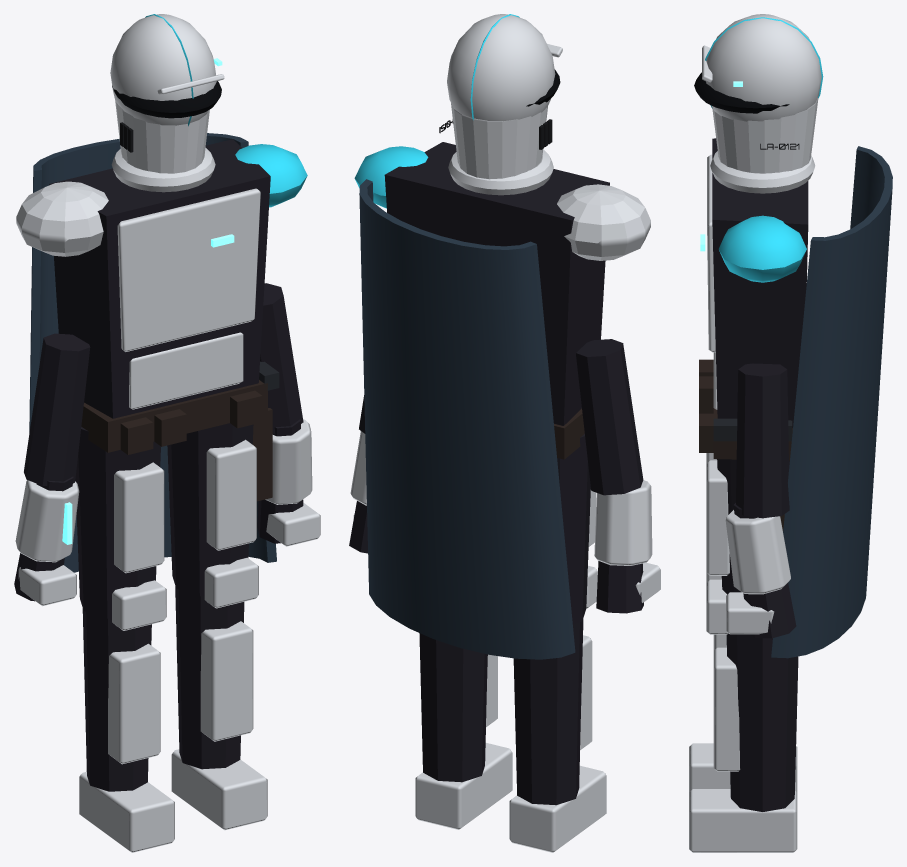
File: pilot_figure_issued.glb
3 views of the same model, side by side, from view 1: azimuth 30°, elevation 25°; view 2: azimuth 150°, elevation 25°; view 3: azimuth 270°, elevation 25° (orthographic).
Visible parts, largest first — view 1: pilot_armor, pilot_body, pilot_belt, pilot_helmet_crown, pilot_cape, pilot_helmet_jaw, pilot_pauldron, pilot_collar, pilot_visor; view 2: pilot_cape, pilot_body, pilot_armor, pilot_helmet_crown, pilot_helmet_jaw, pilot_collar, pilot_pauldron, pilot_belt; view 3: pilot_cape, pilot_body, pilot_armor, pilot_helmet_crown, pilot_helmet_jaw, pilot_pauldron, pilot_collar, pilot_belt, pilot_visor, pilot_sidearm.
Part boxes in pixels (bbox=[...]): pilot_armor: bbox=[15, 181, 320, 852]; pilot_body: bbox=[14, 139, 303, 791]; pilot_belt: bbox=[81, 380, 272, 501]; pilot_helmet_crown: bbox=[110, 14, 216, 125]; pilot_cape: bbox=[29, 133, 276, 572]; pilot_helmet_jaw: bbox=[115, 99, 209, 173]; pilot_pauldron: bbox=[235, 144, 307, 207]; pilot_collar: bbox=[111, 148, 215, 192]; pilot_visor: bbox=[112, 81, 221, 118]; pilot_cape: bbox=[359, 179, 575, 659]; pilot_body: bbox=[349, 142, 643, 805]; pilot_armor: bbox=[350, 184, 660, 852]; pilot_helmet_crown: bbox=[447, 14, 555, 121]; pilot_helmet_jaw: bbox=[451, 103, 547, 179]; pilot_collar: bbox=[448, 149, 553, 195]; pilot_pauldron: bbox=[354, 146, 428, 208]; pilot_belt: bbox=[554, 408, 584, 459]; pilot_cape: bbox=[771, 146, 892, 658]; pilot_body: bbox=[712, 138, 808, 811]; pilot_armor: bbox=[689, 154, 797, 852]; pilot_helmet_crown: bbox=[706, 14, 821, 121]; pilot_helmet_jaw: bbox=[712, 98, 818, 173]; pilot_pauldron: bbox=[718, 215, 806, 282]; pilot_collar: bbox=[710, 151, 815, 193]; pilot_belt: bbox=[699, 359, 792, 531]; pilot_visor: bbox=[694, 72, 789, 113]; pilot_sidearm: bbox=[713, 418, 792, 441].
Size of the model in its own units: 0.6883 by 1.8 by 0.4148.
